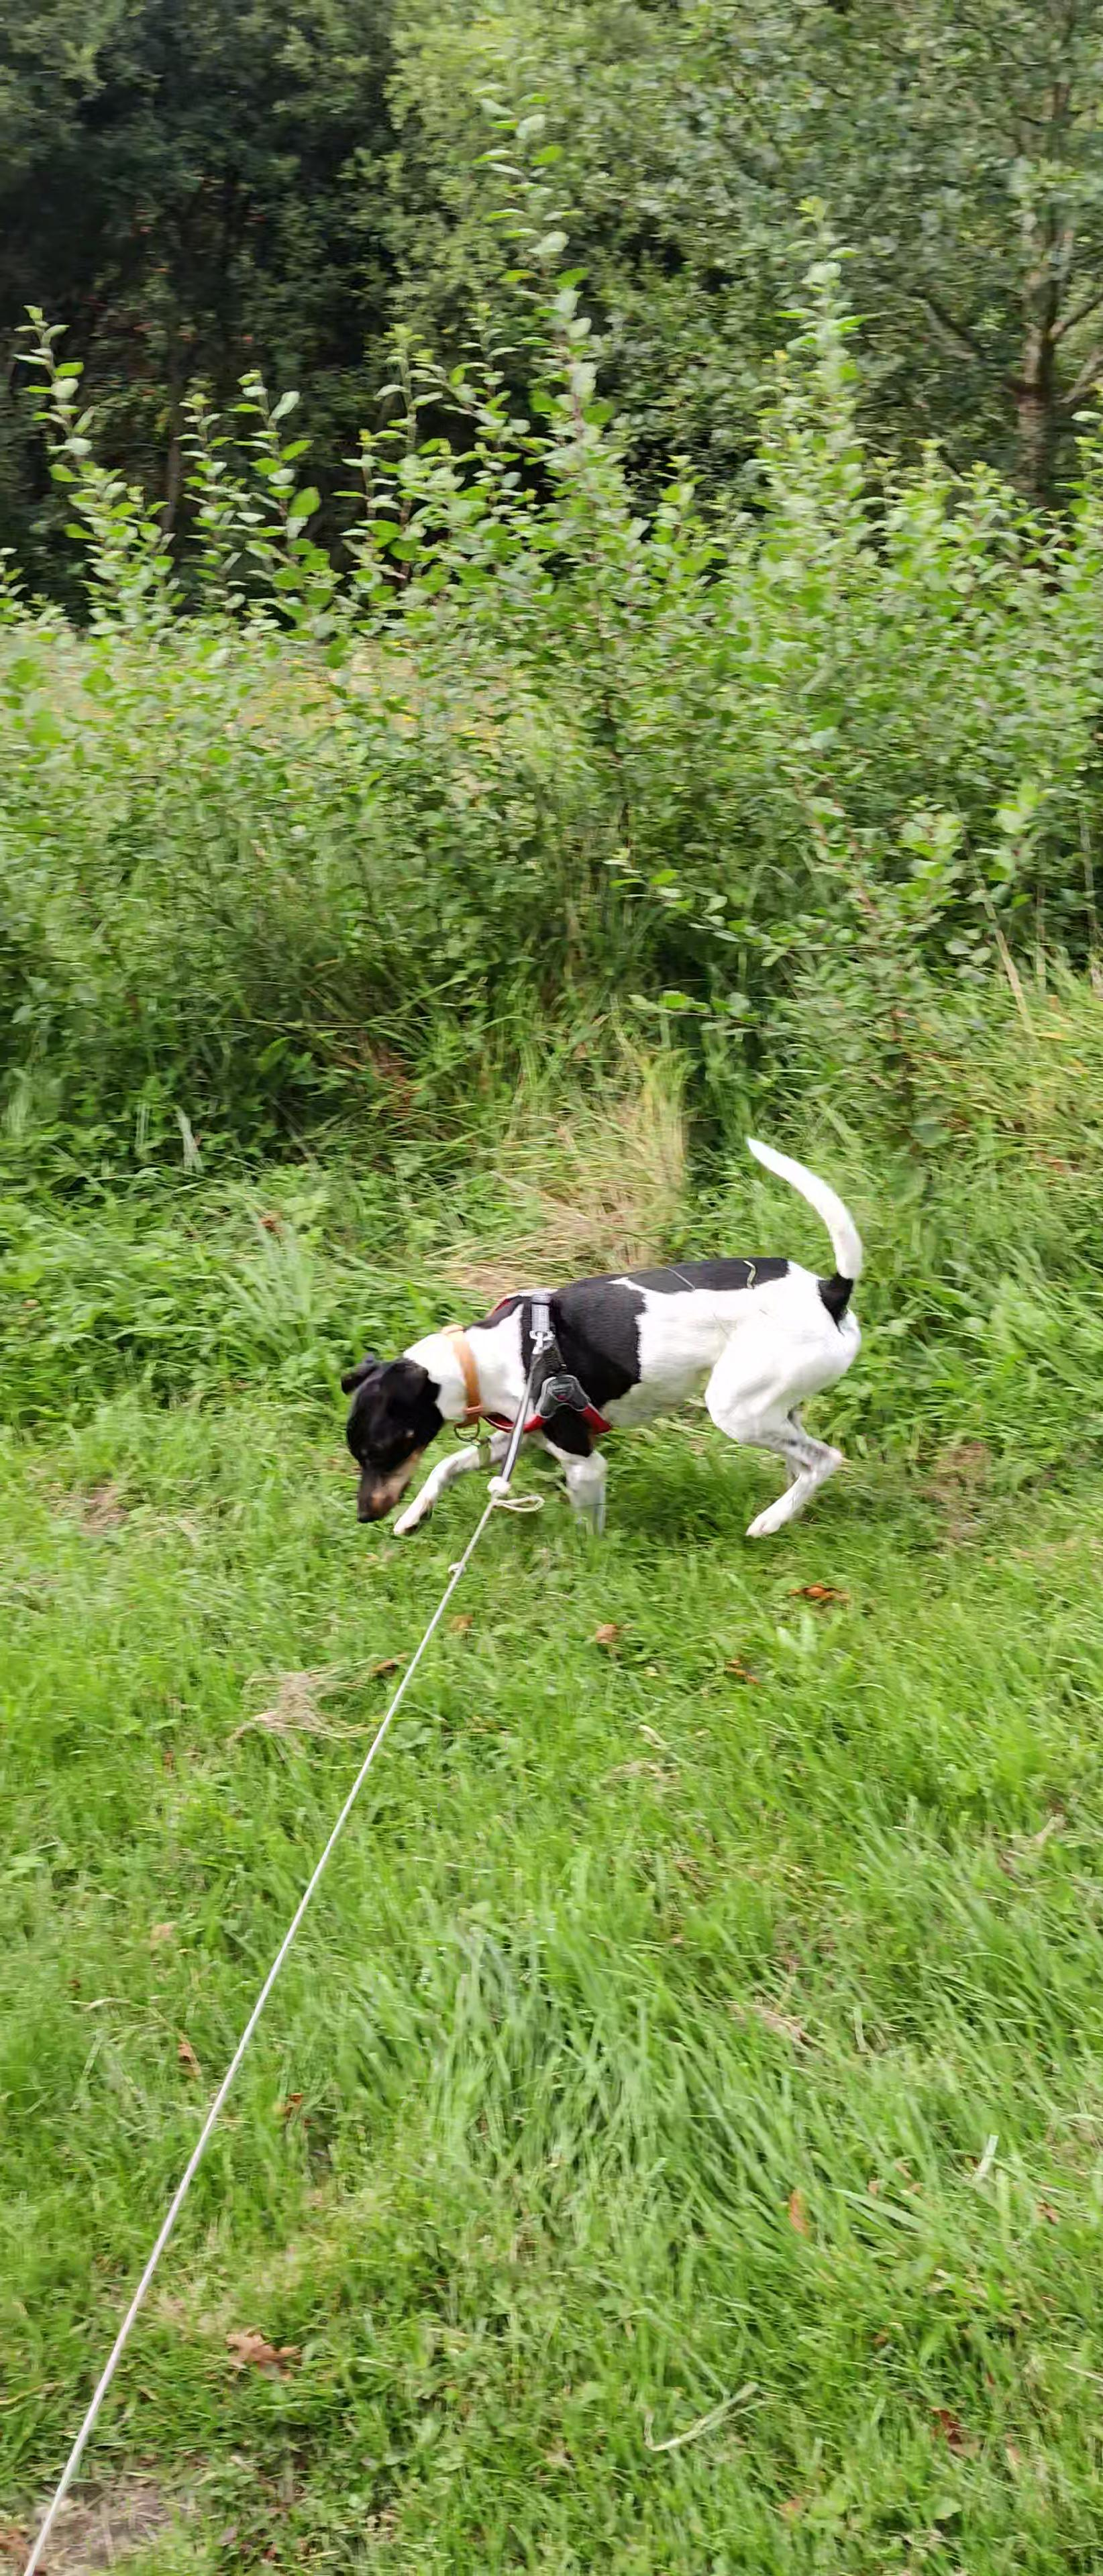Dog: (334, 1117, 889, 1557)
